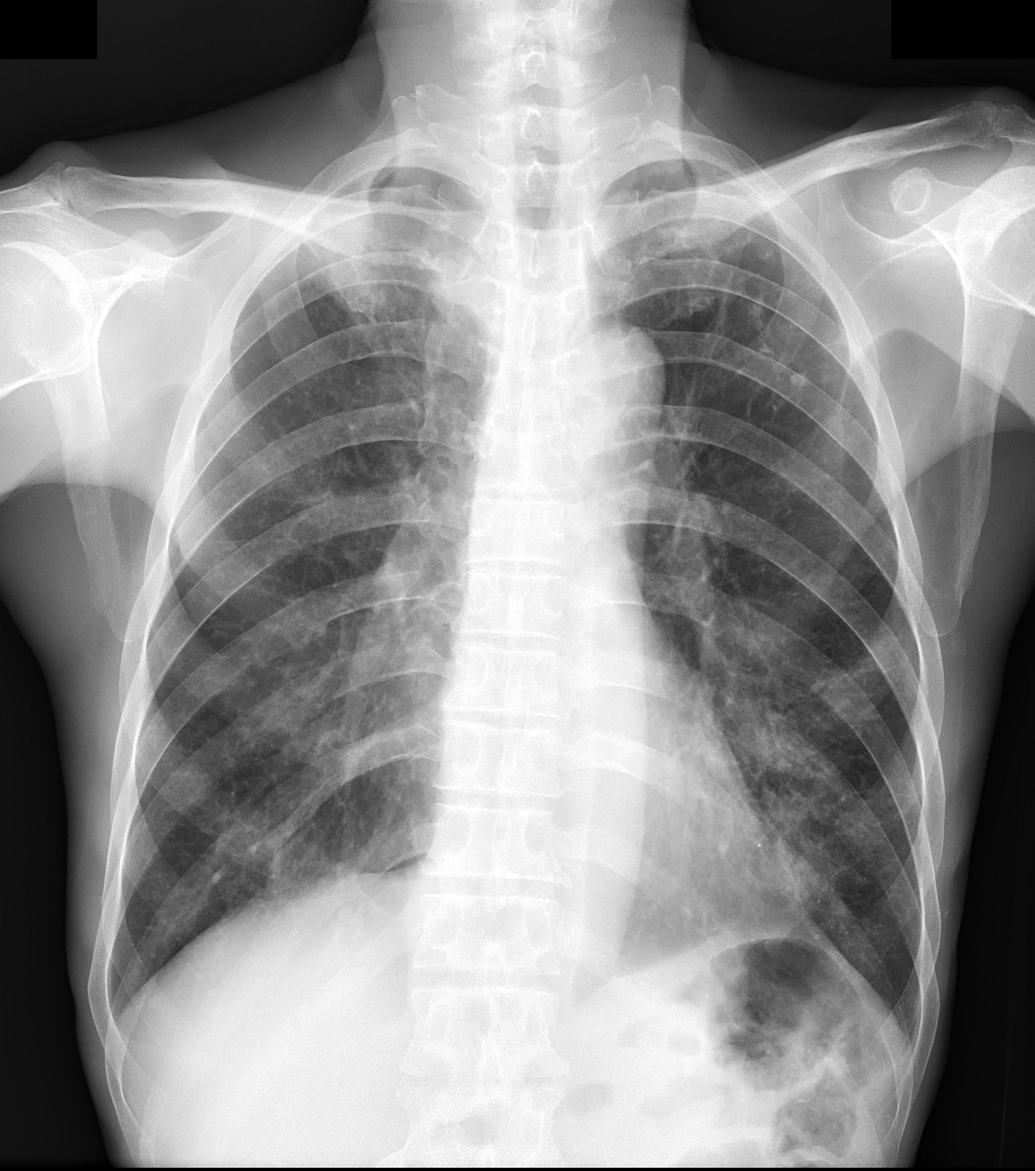Aortic enlargement: (551, 320, 667, 448)
Pleural thickening: (608, 160, 725, 197), (353, 166, 398, 190)
Pulmonary fibrosis: (698, 243, 805, 460)
